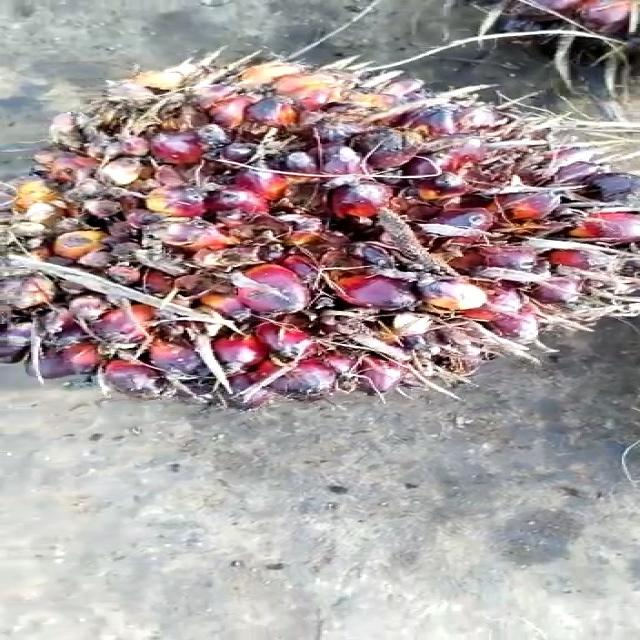palm oil: (0, 39, 640, 414)
